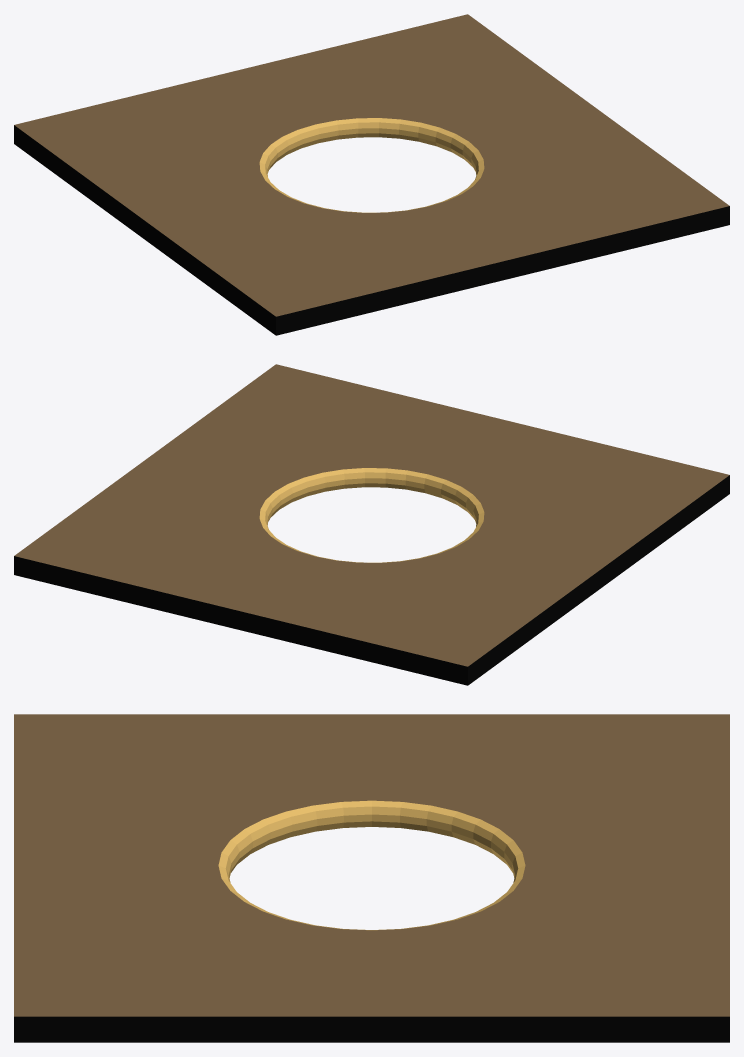
Rendered from M_Floor_Column.fbx.
3 renders of one model, top to bottom at view 1: azimuth 30°, elevation 25°; view 2: azimuth 150°, elevation 25°; view 3: azimuth 270°, elevation 25°, orthographic. The views are drawn at different scales.
Visible parts, largest first — view 1: M_Floor_Column; view 2: M_Floor_Column; view 3: M_Floor_Column.
Boxes of the visible parts, left/top/right/bottom form: M_Floor_Column: left=14, top=14, right=729, bottom=335; M_Floor_Column: left=14, top=364, right=729, bottom=685; M_Floor_Column: left=14, top=714, right=729, bottom=1042.
Bounding box in the file's own units: 500 × 20 × 500.
